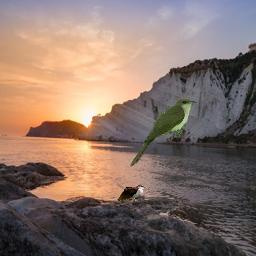Cuckoo: (130, 98, 197, 168), (117, 173, 147, 202)
